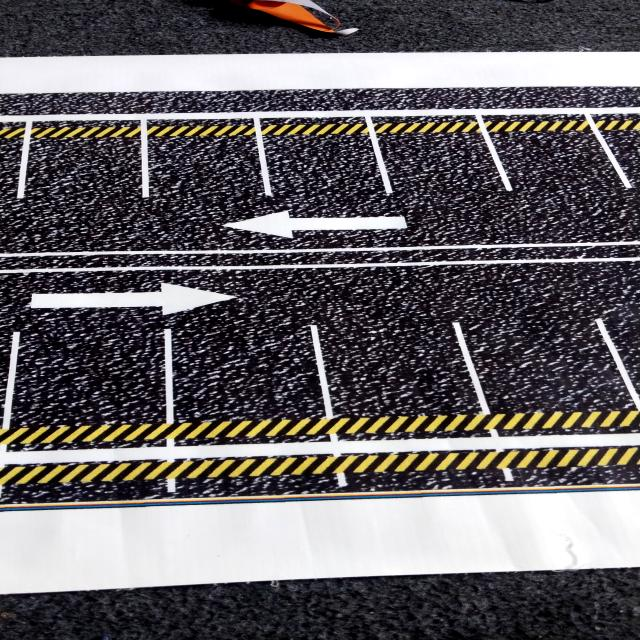slots: (168, 300, 324, 420), (466, 315, 635, 412), (14, 318, 165, 423), (320, 318, 480, 417), (380, 133, 505, 203), (264, 136, 384, 207), (491, 131, 624, 195), (24, 139, 142, 209), (150, 136, 264, 202)
